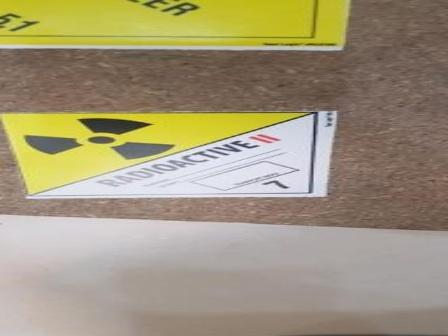radioactive: (1, 111, 336, 198)
